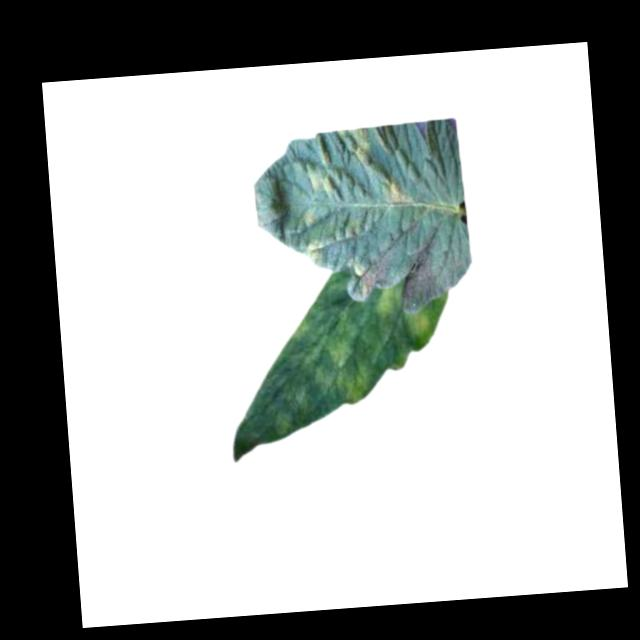Leaf_Mold: (314, 313, 355, 371), (335, 126, 375, 167), (370, 279, 406, 319), (303, 161, 337, 197), (337, 366, 369, 404), (380, 176, 410, 208), (302, 236, 333, 266), (405, 308, 432, 339), (297, 204, 322, 231)
